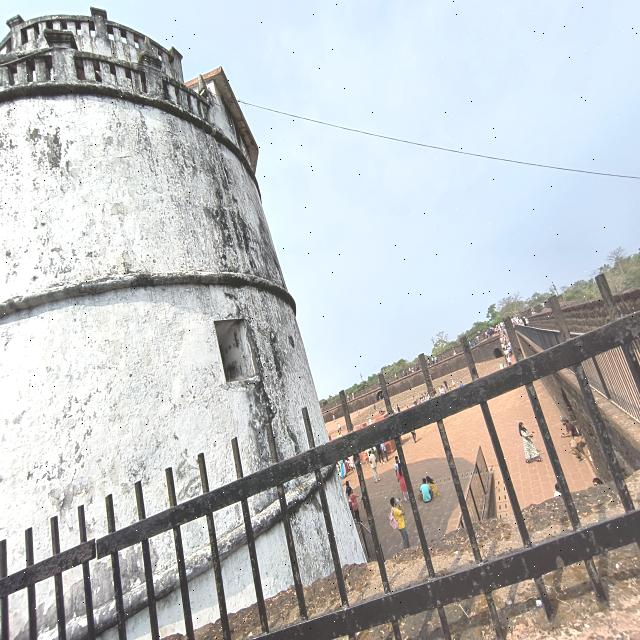stain_mould: (0, 8, 328, 572)
